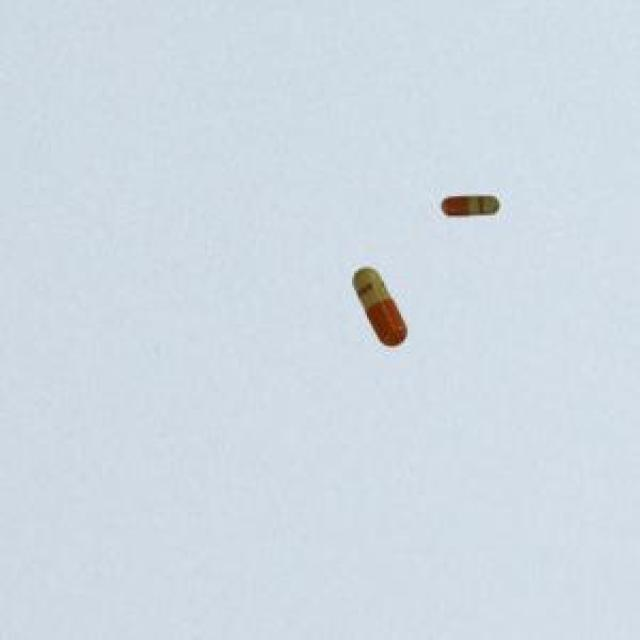Alaxan: (344, 259, 424, 366), (437, 174, 505, 239)
